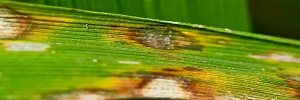RiceBlast: (61, 67, 220, 100), (102, 22, 212, 58), (1, 7, 64, 54)
